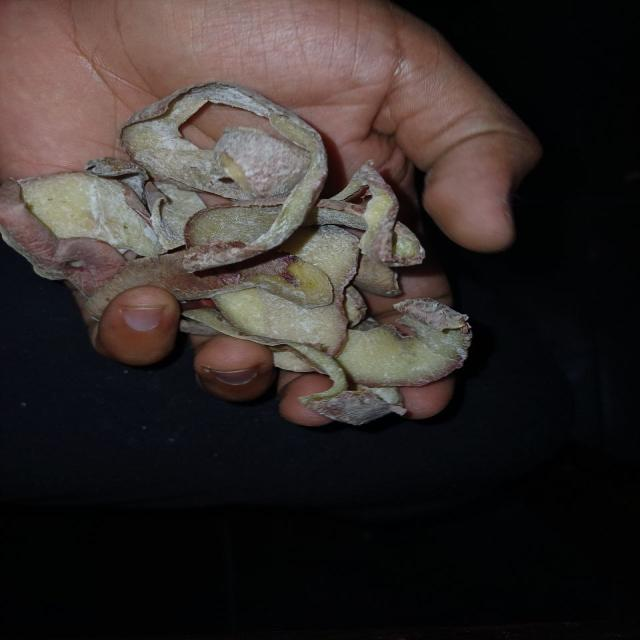organic: (0, 84, 470, 425)
